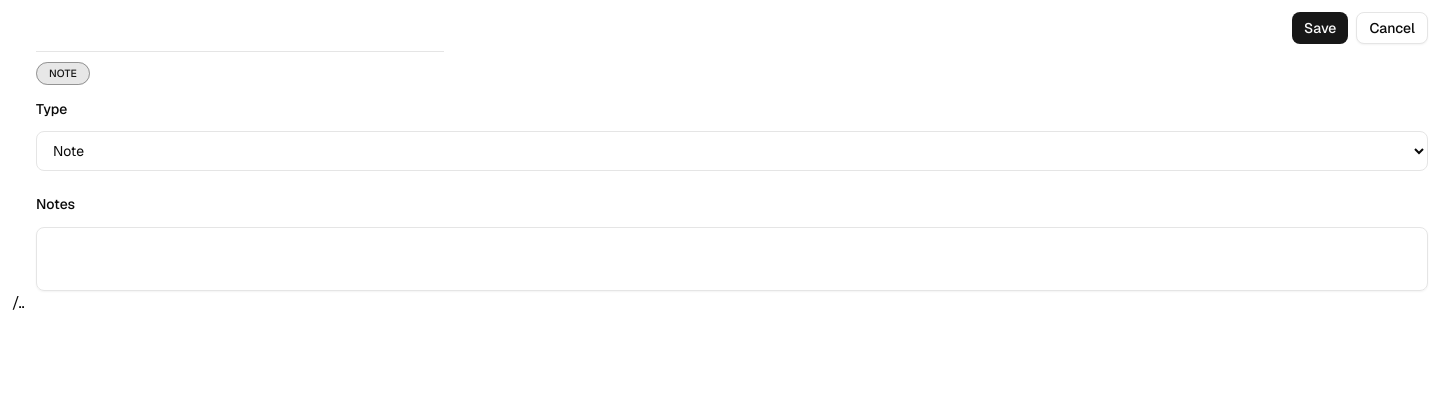
EventDetail › create mode › shows appointment datetime field when type is APPOINTMENT in create mode
The image size is (1449, 418).
Select "Appointment" in the dropdown labelled "Type": (732, 151) x1=36 y1=131 x2=1428 y2=171
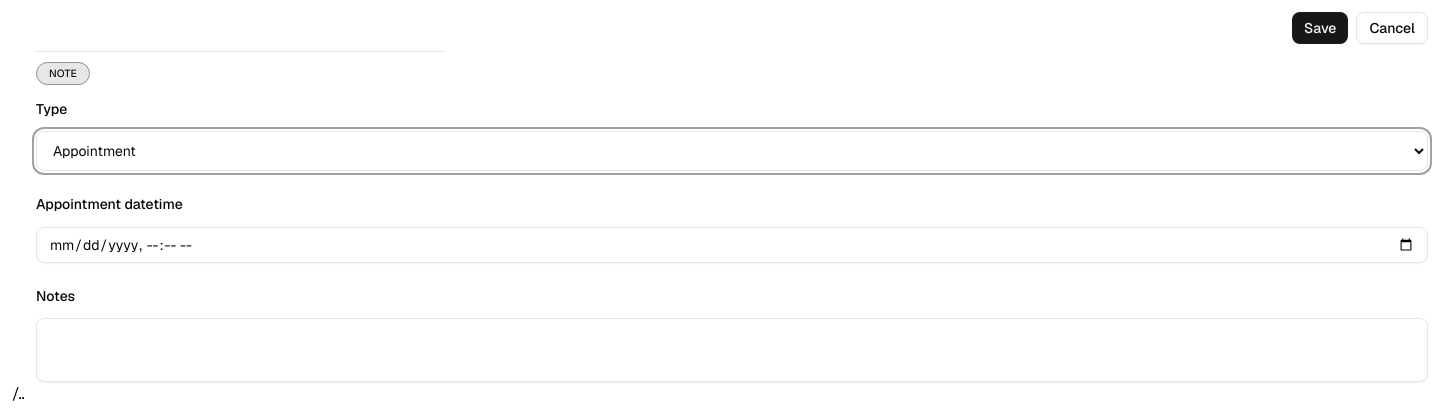
Check: the field labelled "Appointment datetime" is shown, box x1=36 y1=226 x2=1428 y2=262
